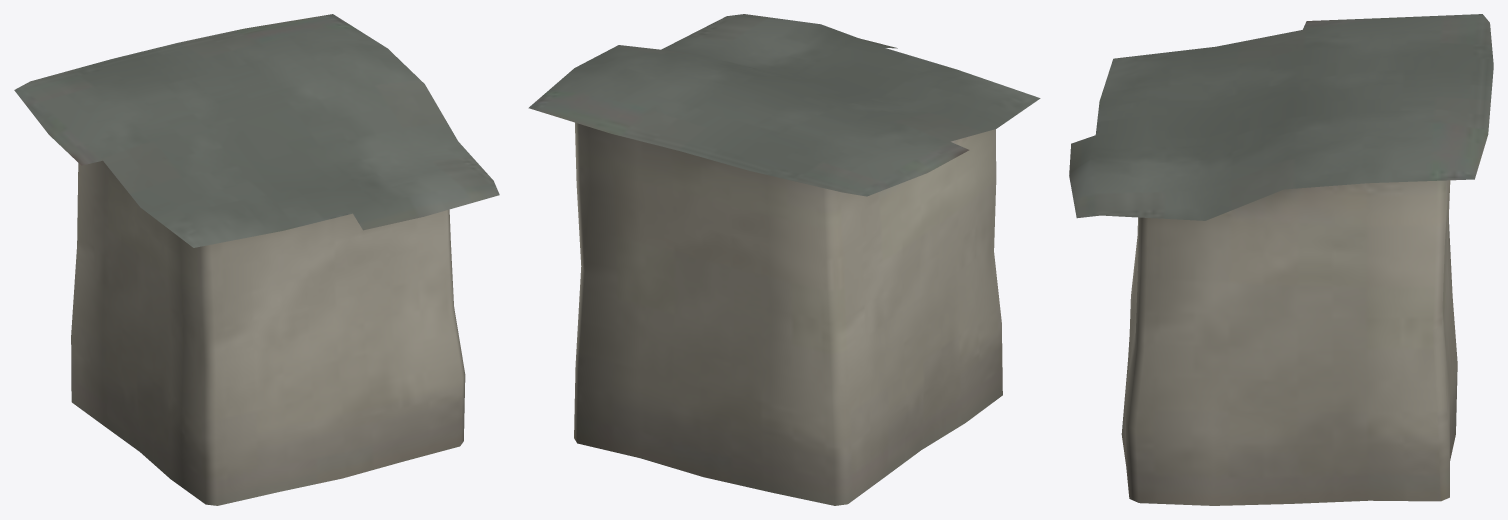
The model's file is MSH_Building_005.glb.
3 views of the same model, side by side, from view 1: azimuth 30°, elevation 25°; view 2: azimuth 150°, elevation 25°; view 3: azimuth 270°, elevation 25° (orthographic). The views are drawn at different scales.
Parts seen in each view (by area): view 1: Base.015; view 2: Base.015; view 3: Base.015.
Boxes of the visible parts, x1=… form: Base.015: x1=14, y1=14, x2=499, y2=505; Base.015: x1=528, y1=14, x2=1040, y2=505; Base.015: x1=1069, y1=14, x2=1493, y2=505.
Bounding box in the file's own units: 6.77 × 6.16 × 6.83.
1 material, 1 textured.
